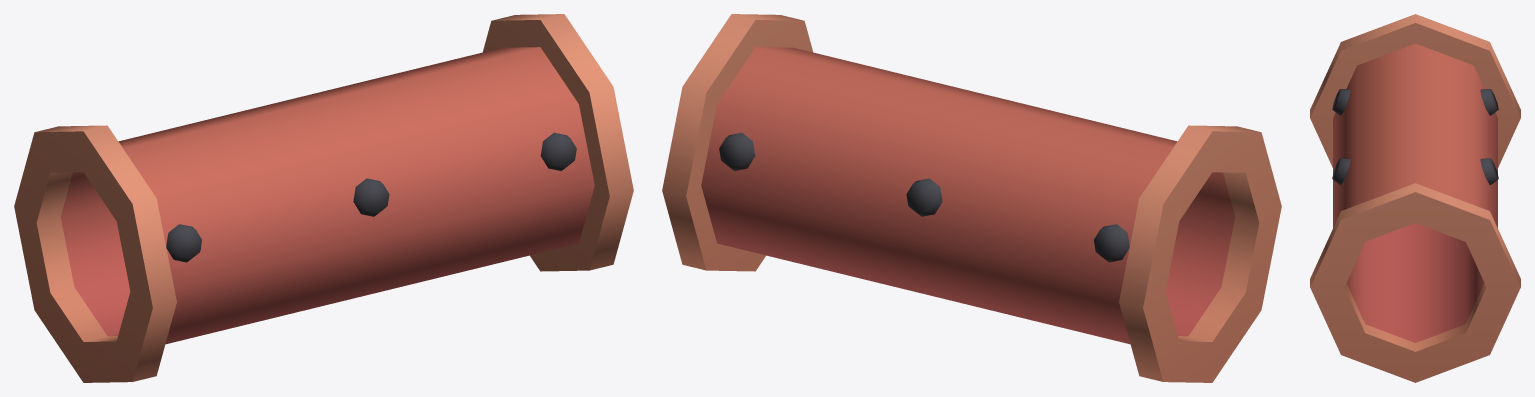
The model's file is pipe-large-long.obj.
3 renders of one model, left to right at view 1: azimuth 30°, elevation 25°; view 2: azimuth 150°, elevation 25°; view 3: azimuth 270°, elevation 25°, orthographic. The views are drawn at different scales.
Visible parts, largest first — view 1: pipe-large-long; view 2: pipe-large-long; view 3: pipe-large-long.
Part boxes in pixels (box(x1,y1,x2,y2)): pipe-large-long: box(14, 14, 633, 382); pipe-large-long: box(662, 14, 1281, 382); pipe-large-long: box(1310, 14, 1520, 382).
Bounding box in the file's own units: 2 × 1 × 1.
